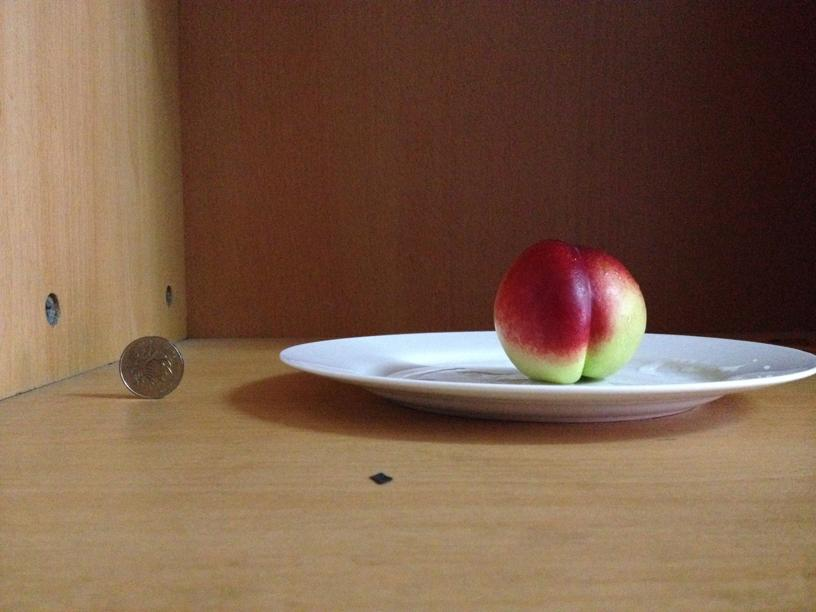coin: (119, 334, 184, 397)
peach: (493, 238, 645, 384)
